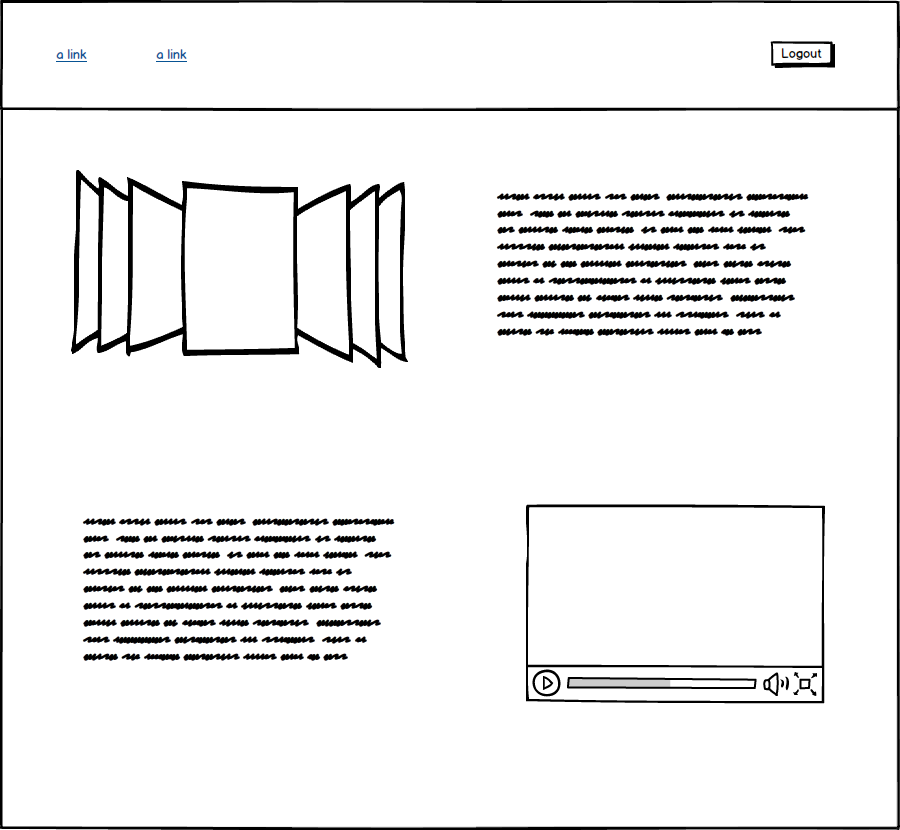button: (763, 37, 842, 71)
navlink: (46, 39, 97, 77), (150, 44, 198, 68)
p: (78, 501, 412, 671), (492, 182, 815, 344)
slideshow: (64, 166, 418, 376)
video: (520, 495, 831, 711)
